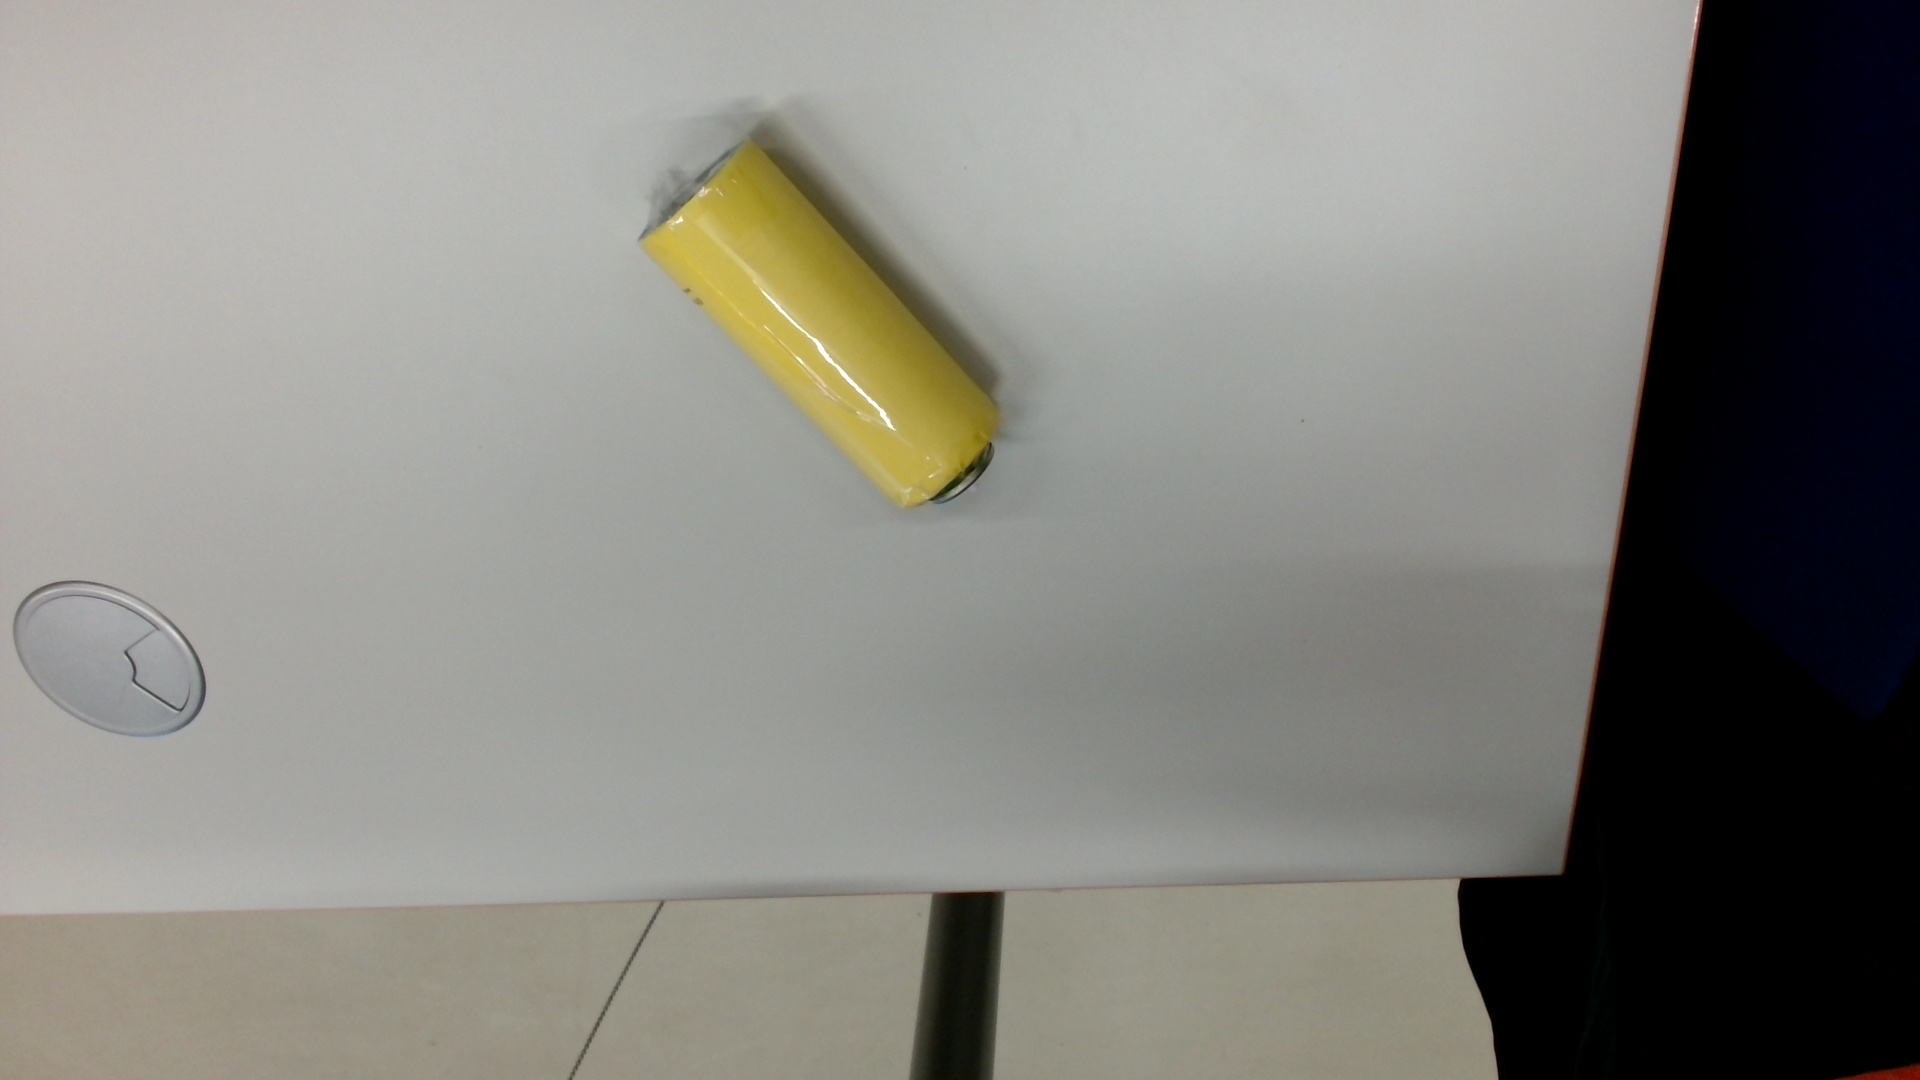Cylinder: (626, 131, 1023, 530)
